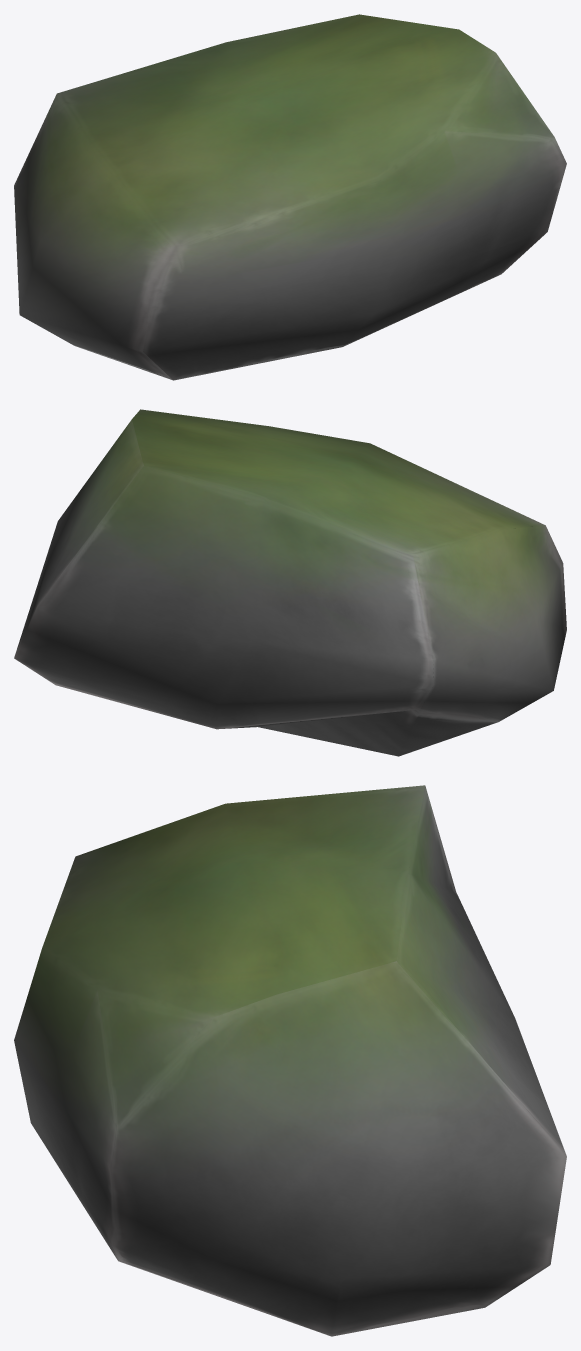
The model's file is rock_1.fbx.
3 views of the same model, one above another, from view 1: azimuth 30°, elevation 25°; view 2: azimuth 150°, elevation 25°; view 3: azimuth 270°, elevation 25° (orthographic). The views are drawn at different scales.
Parts seen in each view (by area): view 1: Cube.002; view 2: Cube.002; view 3: Cube.002.
Part boxes in pixels (x1,y1,x2,y2): Cube.002: (14,14,566,380); Cube.002: (14,409,566,756); Cube.002: (14,785,566,1336).
Size of the model in its own units: 85.35 by 39.83 by 59.01.
Materials: 1 (1 with a texture image).
